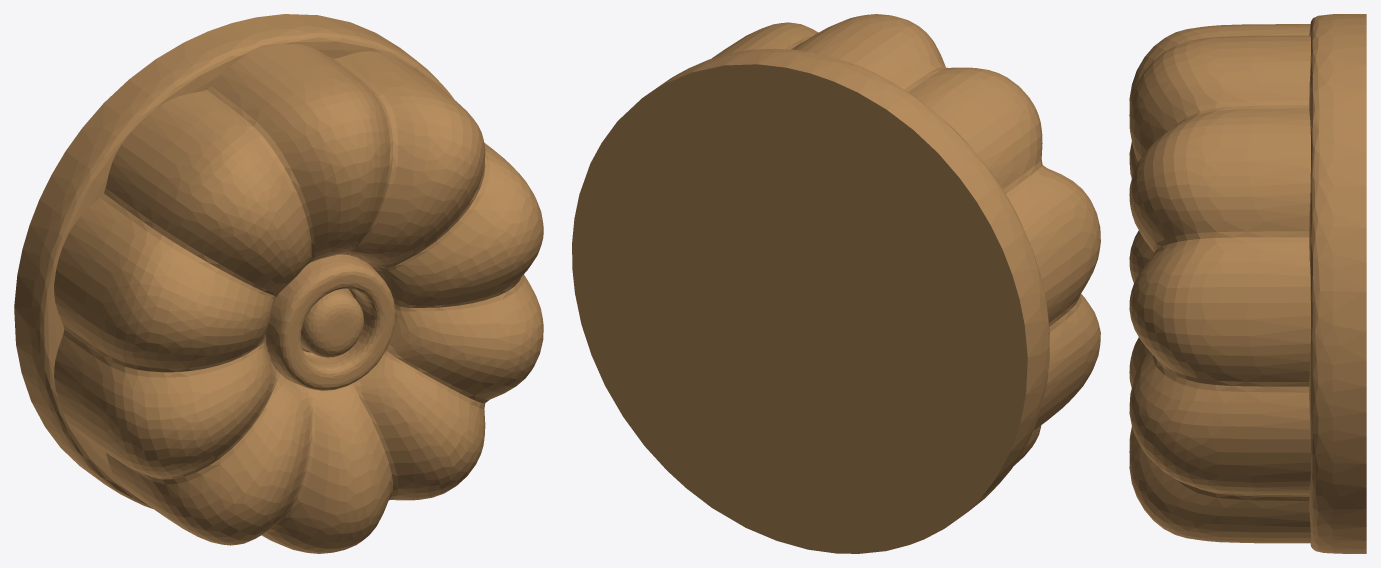
Rendered from gukhwa.glb.
The picture shows the model from 3 angles, left to right: view 1: azimuth 30°, elevation 25°; view 2: azimuth 150°, elevation 25°; view 3: azimuth 270°, elevation 25°; orthographic projection. The views are drawn at different scales.
Parts seen in each view (by area): view 1: Circle.080; view 2: Circle.080; view 3: Circle.080.
Part boxes in pixels (bbox=[...]): Circle.080: bbox=[14, 14, 543, 553]; Circle.080: bbox=[572, 14, 1100, 553]; Circle.080: bbox=[1129, 14, 1366, 553].
Size of the model in its own units: 13.72 by 13.72 by 6.02.
